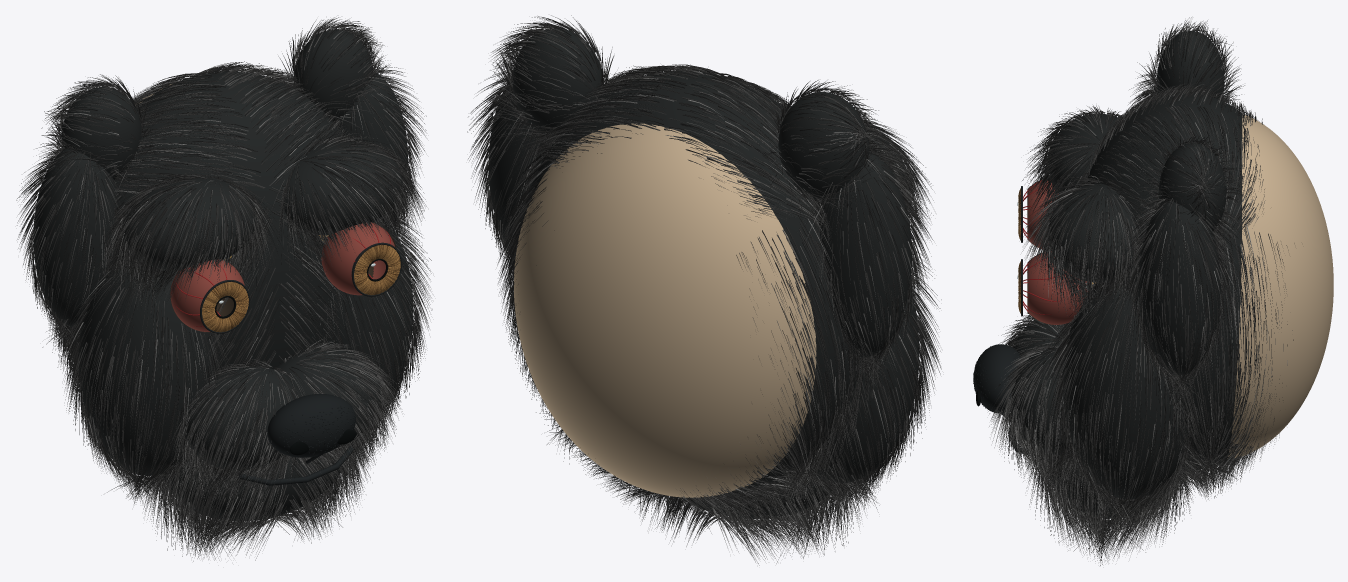
File: shlompi-sculpt.glb
The picture shows the model from 3 angles, left to right: view 1: azimuth 30°, elevation 25°; view 2: azimuth 150°, elevation 25°; view 3: azimuth 270°, elevation 25°; orthographic projection. The views are drawn at different scales.
Parts seen in each view (by area): view 1: exterior — Salt and pepper strand 0, exterior — Carbon undercoat, exterior — Nose and closed mouth, interior — Retinal tissue, exterior — Iris radial fiber 6, exterior — Iris radial fiber 8, exterior — Iris radial fiber 3, exterior — Iris radial fiber 2, exterior — Iris radial fiber 4, exterior — Nostril recess, exterior — Iris radial fiber 5, exterior — Iris radial fiber 0 (+2 smaller); view 2: interior — Inner cranial bone, exterior — Salt and pepper strand 0, exterior — Carbon undercoat; view 3: exterior — Salt and pepper strand 0, exterior — Carbon undercoat, interior — Inner cranial bone, interior — Retinal tissue, exterior — Nose and closed mouth.
Part boxes in pixels (box(x1,y1,x2,y2)): exterior — Salt and pepper strand 0: box(16, 17, 432, 561); exterior — Carbon undercoat: box(33, 29, 413, 521); exterior — Nose and closed mouth: box(200, 242, 402, 485); interior — Retinal tissue: box(170, 222, 394, 331); exterior — Iris radial fiber 6: box(202, 245, 400, 332); exterior — Iris radial fiber 8: box(202, 245, 399, 331); exterior — Iris radial fiber 3: box(202, 245, 400, 331); exterior — Iris radial fiber 2: box(202, 244, 399, 331); exterior — Iris radial fiber 4: box(202, 245, 400, 331); exterior — Nostril recess: box(215, 258, 388, 455); exterior — Iris radial fiber 5: box(202, 245, 400, 332); exterior — Iris radial fiber 0: box(202, 245, 400, 331); interior — Inner cranial bone: box(514, 123, 816, 497); exterior — Salt and pepper strand 0: box(467, 15, 941, 565); exterior — Carbon undercoat: box(488, 28, 919, 518); exterior — Salt and pepper strand 0: box(988, 17, 1294, 565); exterior — Carbon undercoat: box(1010, 31, 1242, 518); interior — Inner cranial bone: box(1227, 114, 1333, 458); interior — Retinal tissue: box(1028, 180, 1089, 324); exterior — Nose and closed mouth: box(973, 186, 1033, 455).
Bounding box in the file's own units: 2.41 × 2.75 × 1.92.
